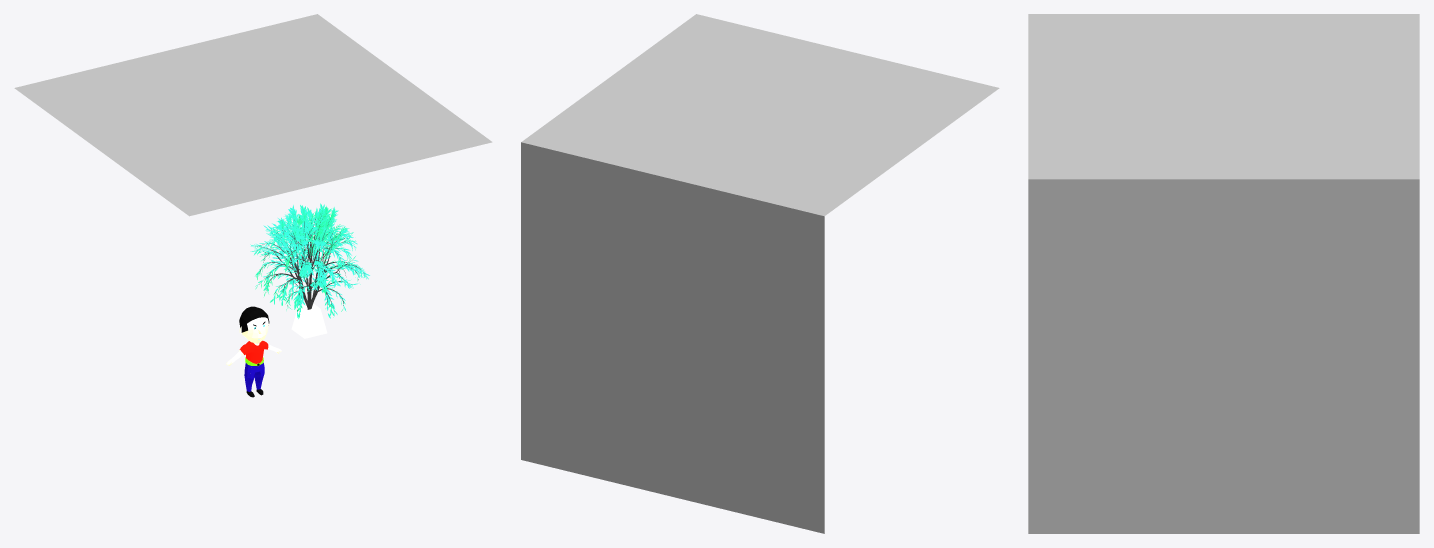
The model's file is guy.gltf.
3 renders of one model, left to right at view 1: azimuth 30°, elevation 25°; view 2: azimuth 150°, elevation 25°; view 3: azimuth 270°, elevation 25°, orthographic. The views are drawn at different scales.
Visible parts, largest first — view 1: Covering, leaves, Low_Poly_Guy, tree, TreePot; view 2: Covering; view 3: Covering.
Part boxes in pixels (x1,y1,x2,y2): Covering: (14, 14, 492, 216); leaves: (250, 203, 369, 318); Low_Poly_Guy: (226, 306, 281, 397); tree: (257, 216, 364, 311); TreePot: (291, 303, 327, 338); Covering: (521, 14, 999, 533); Covering: (1028, 14, 1419, 533).
Size of what is drawn, in the model's own units: 1842 by 1842 by 1842.
